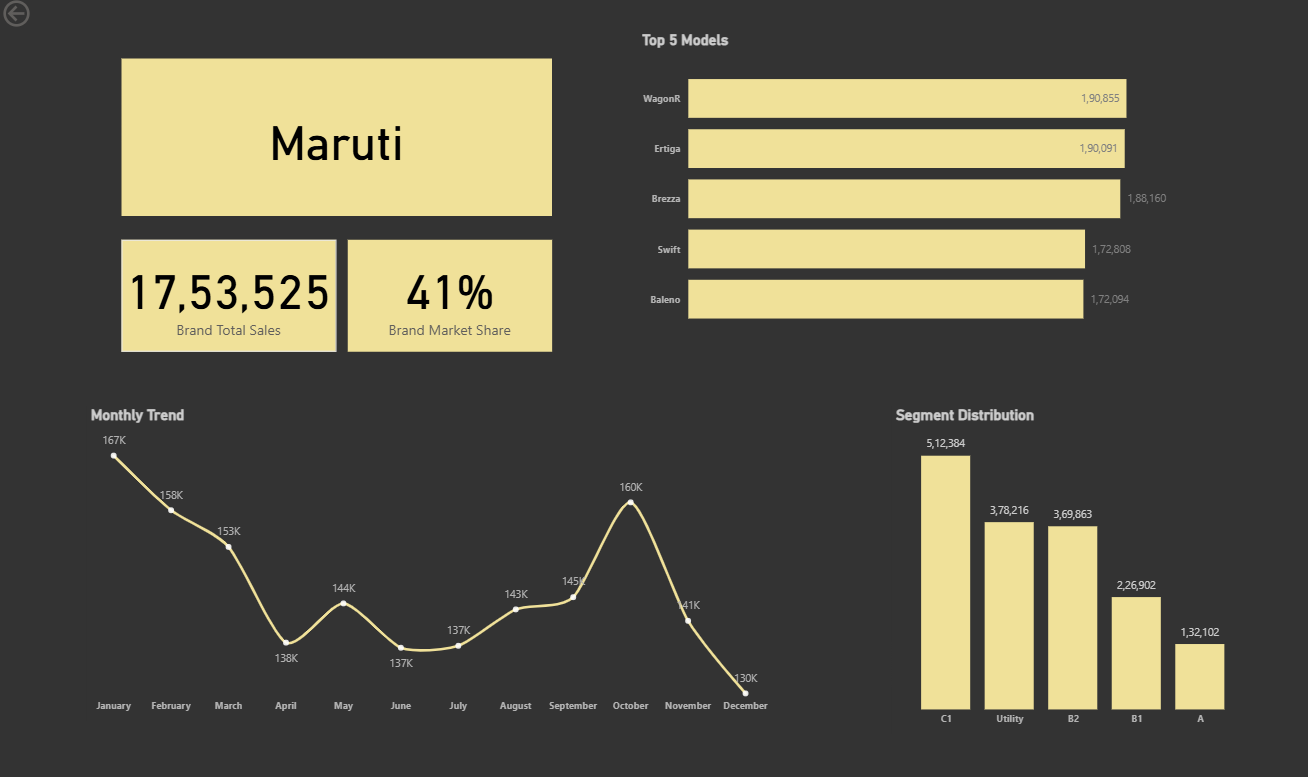

The page's visual inventory and layout, read from the dashboard file:
{"tool":"powerbi","page":{"name":"Brand Deep Dive","canvas":[1500,900],"ordinal":1},"visuals":[{"type":"actionButton","box":[0,0,100,40],"z":0},{"type":"card","title":"Brand name","fields":{"Values":["DateTable.Selected Brand"]},"box":[140,71.7,491.7,180],"z":1000},{"type":"lineChart","title":"Monthly Trend","fields":{"Y":["DateTable.Total Sales"],"Category":["DimMonth.Month Name"]},"box":[100,468.3,786.7,360],"z":2000},{"type":"clusteredBarChart","title":"Top 5 Models","fields":{"Category":["Fact_Sales.Model"],"Y":["DateTable.Total Sales"]},"box":[730,40,613.3,358.3],"z":3000},{"type":"clusteredColumnChart","title":"Segment Distribution","fields":{"Category":["Fact_Sales.Segment"],"Y":["DateTable.Total Sales"]},"box":[1020,468.3,416.7,375],"z":4000},{"type":"card","fields":{"Values":["DateTable.Brand Total Sales"]},"box":[140,278.3,245,128.3],"z":5000},{"type":"card","fields":{"Values":["DateTable.Brand Share %"]},"box":[398.3,278.3,233.3,128.3],"z":6000}]}

Visuals, with their boxes on the page's 1500x900 design canvas (x1, y1, x2, y2). These are canvas units, not pixel positions in the 1308x777 screenshot, which may show the page scaled, cropped or inside an application window:
actionButton: (0, 0, 100, 40)
"Brand name" card: (140, 72, 632, 252)
"Monthly Trend" lineChart: (100, 468, 887, 828)
"Top 5 Models" clusteredBarChart: (730, 40, 1343, 398)
"Segment Distribution" clusteredColumnChart: (1020, 468, 1437, 843)
card - DateTable.Brand Total Sales: (140, 278, 385, 407)
card - DateTable.Brand Share %: (398, 278, 632, 407)
